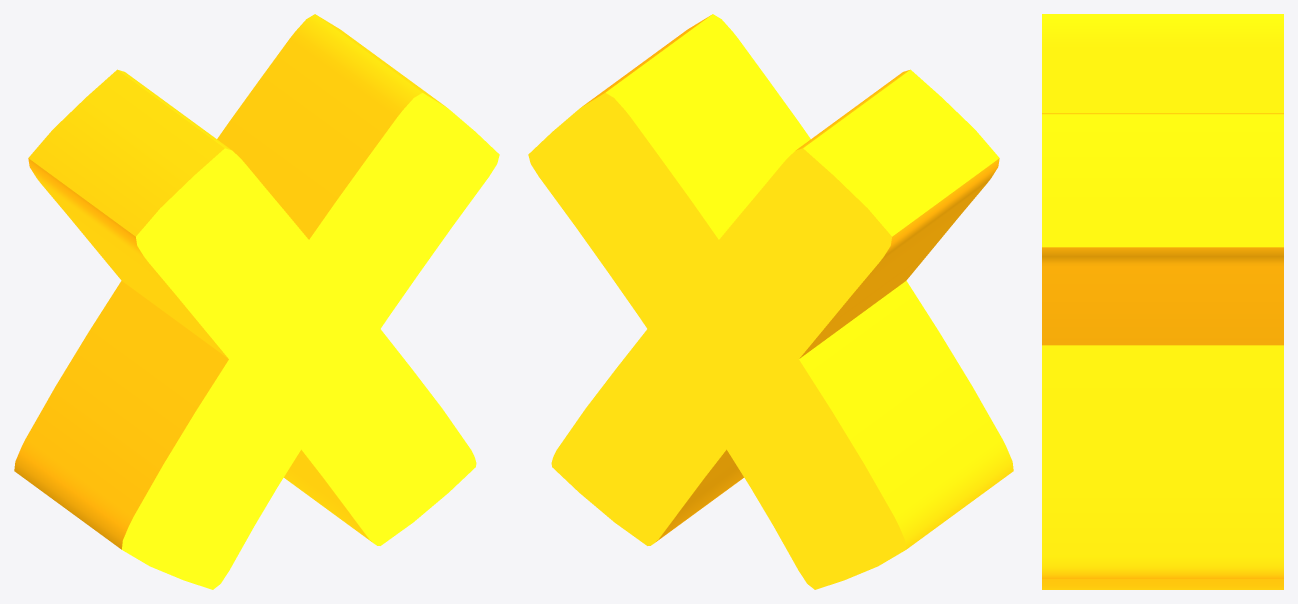
The model's file is X_Zyzol_Yellow.glb.
The picture shows the model from 3 angles, left to right: view 1: azimuth 30°, elevation 25°; view 2: azimuth 150°, elevation 25°; view 3: azimuth 270°, elevation 25°; orthographic projection. The views are drawn at different scales.
Visible parts, largest first — view 1: x_Zyzol_Yellow; view 2: x_Zyzol_Yellow; view 3: x_Zyzol_Yellow.
Part boxes in pixels (box(x1,y1,x2,y2)): x_Zyzol_Yellow: box(14, 14, 499, 589); x_Zyzol_Yellow: box(528, 14, 1013, 589); x_Zyzol_Yellow: box(1042, 14, 1283, 589).
Size of what is drawn, in the model's own units: 0.0913 by 0.103 by 0.045.
Materials: 2 (2 with a texture image).
